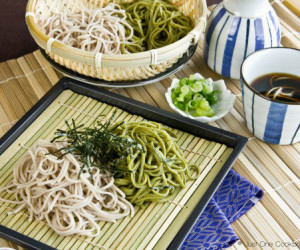Soba: (22, 126, 204, 234), (21, 133, 130, 234), (98, 115, 193, 210), (37, 1, 193, 53), (43, 2, 125, 55), (116, 3, 200, 50), (260, 73, 300, 109)
